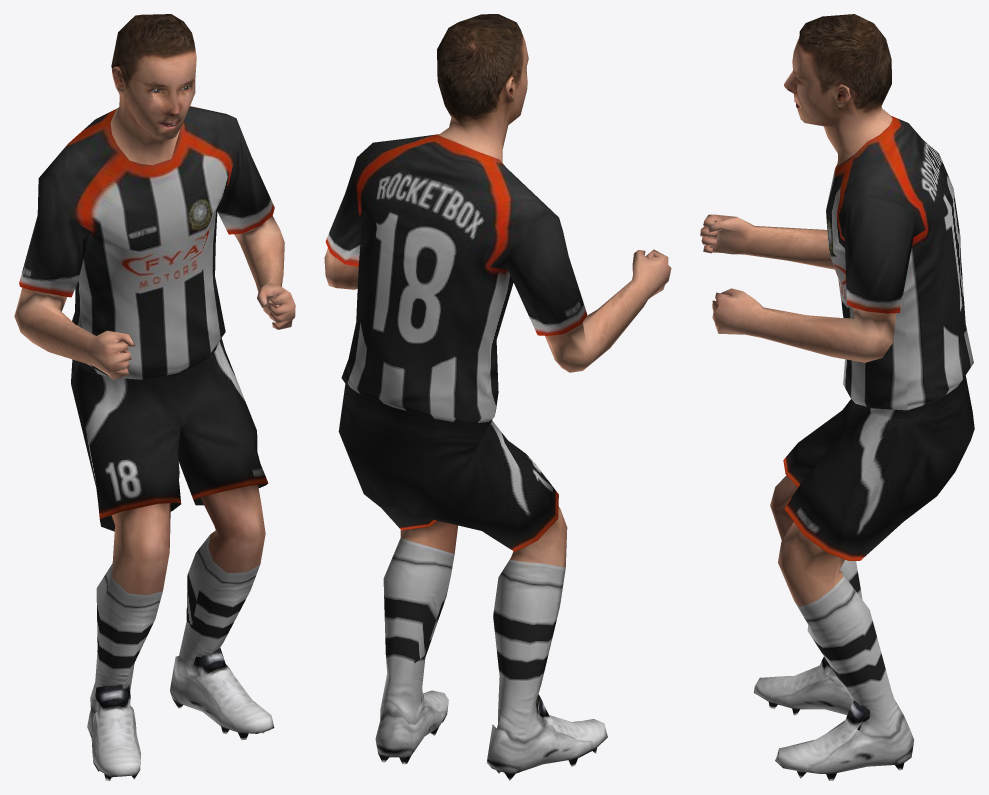
File: Sports_Male_02_cheer.glb
The picture shows the model from 3 angles, left to right: view 1: azimuth 30°, elevation 25°; view 2: azimuth 150°, elevation 25°; view 3: azimuth 270°, elevation 25°; orthographic projection. The views are drawn at different scales.
Visible parts, largest first — view 1: m301_hipoly_81_bones_b; view 2: m301_hipoly_81_bones_b; view 3: m301_hipoly_81_bones_b.
Part boxes in pixels (left/top/right/bottom): m301_hipoly_81_bones_b: left=14, top=14, right=295, bottom=780; m301_hipoly_81_bones_b: left=324, top=14, right=671, bottom=780; m301_hipoly_81_bones_b: left=700, top=14, right=974, bottom=780.
Size of the model in its own units: 0.636 by 1.67 by 0.5773.
Materials: 2 (2 with a texture image).
